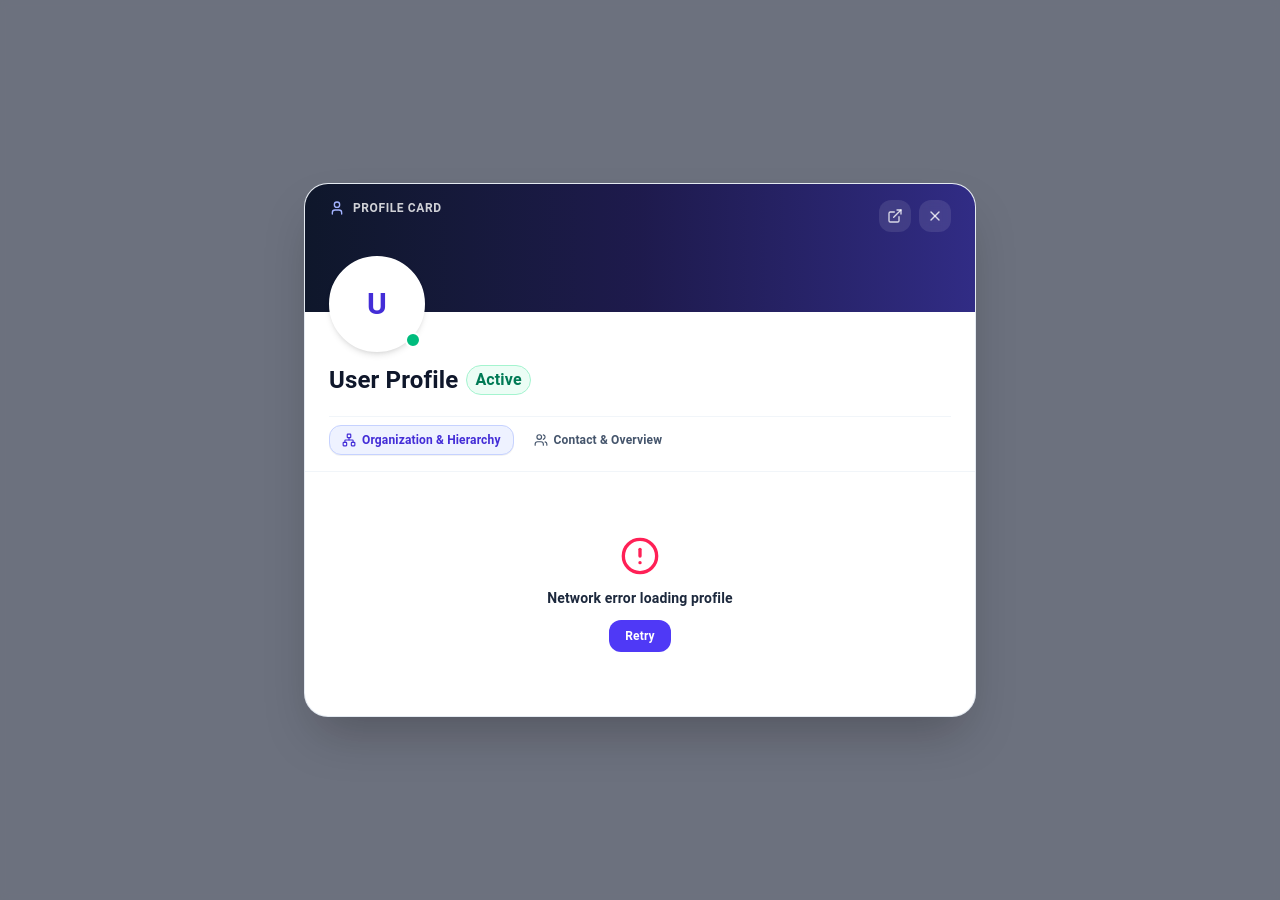
Test: UserProfileModal Component › displays error message and allows retry on fetch failure
This screenshot has width=1280, height=900.
Expected: the text "Network error loading profile" is shown, left=547, top=588, right=733, bottom=608
Click the button "Retry": x=640, y=636 left=609, top=620, right=671, bottom=652
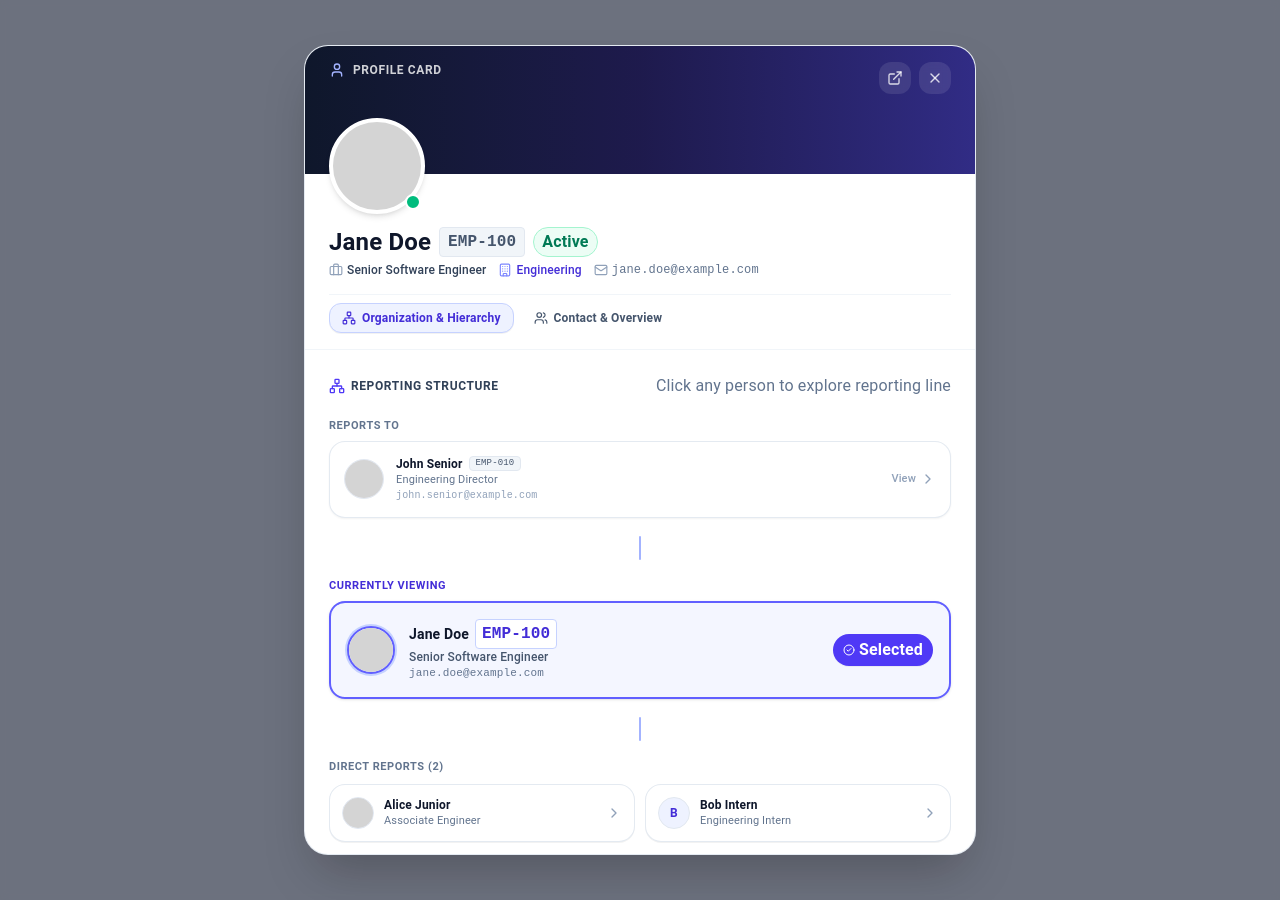
Result: the heading "Jane Doe" is shown at left=329, top=226, right=431, bottom=258
